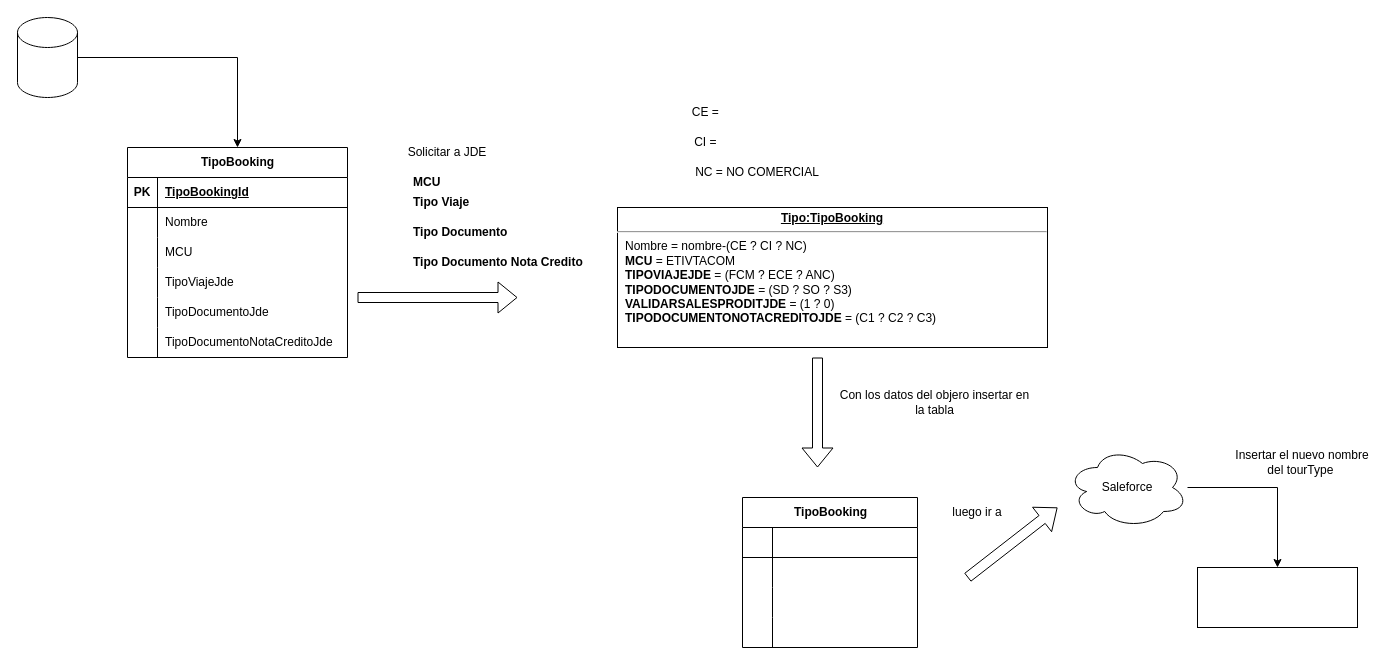
Some shapes in this 1395 by 665 pixel diagram are drawn without their labels. Each missing label, with the centre of its shape:
Opp:Opportunity TourType = Nombre: the point at 1277,597
XTS-DB: the point at 47,57
